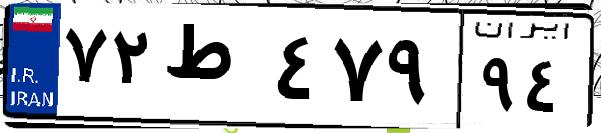2: (110, 28, 158, 98)
4: (270, 28, 330, 110), (525, 38, 570, 115)
7: (330, 28, 385, 110), (57, 26, 110, 100)
9: (385, 28, 445, 110), (475, 38, 525, 113)
ط: (158, 20, 270, 120)
